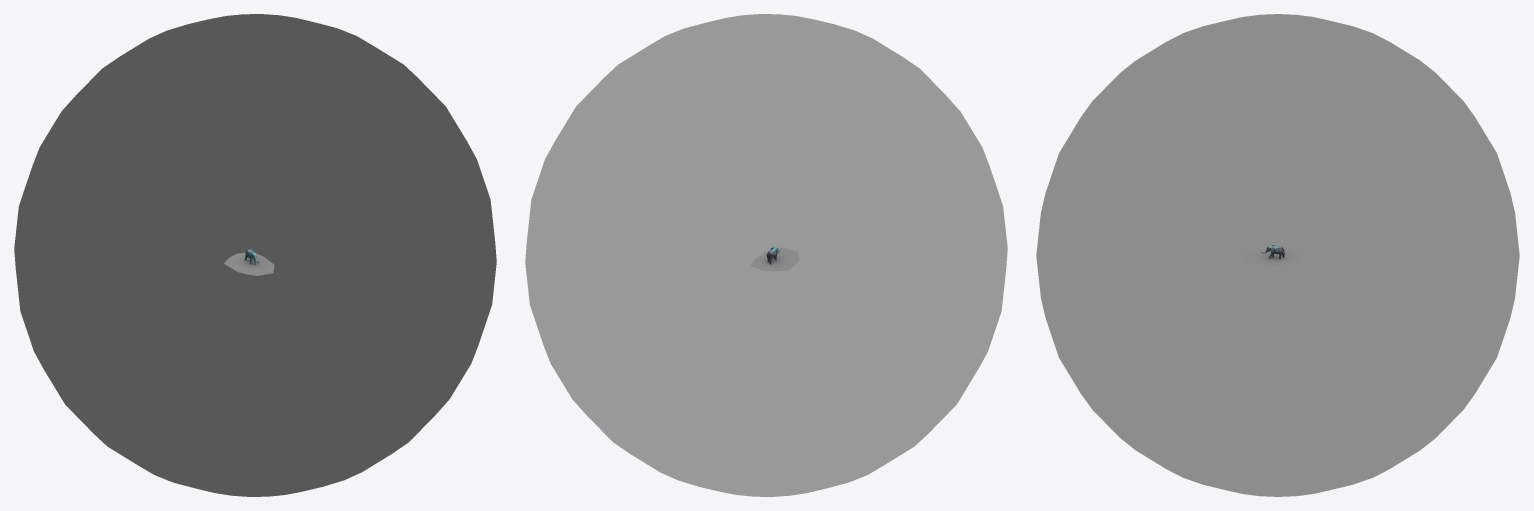
File: asset.glb
The picture shows the model from 3 angles, left to right: view 1: azimuth 30°, elevation 25°; view 2: azimuth 150°, elevation 25°; view 3: azimuth 270°, elevation 25°; orthographic projection.
Visible parts, largest first — view 1: Object_2, Object_4; view 2: Object_2, Object_4; view 3: Object_2, Object_4.
Part boxes in pixels (x1,y1,x2,y2): Object_2: (14, 14, 496, 496); Object_4: (224, 252, 274, 275); Object_2: (525, 14, 1007, 496); Object_4: (750, 247, 799, 271); Object_2: (1036, 14, 1519, 496); Object_4: (1243, 247, 1300, 265).
Size of the model in its own units: 35157 by 35157 by 35157.
Materials: 3 (2 with a texture image).
